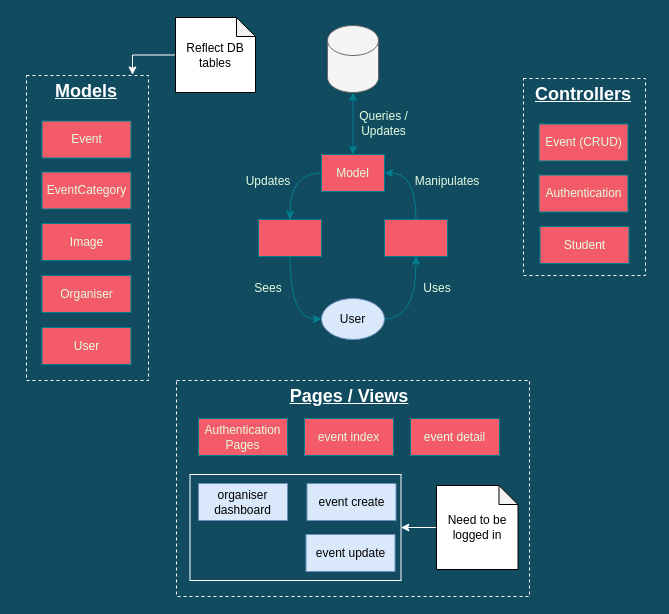
Some shapes in this 669 by 614 pixel diagram are drawn without their labels. The shapes that lost their labels are listed below. From the top down, each one's centre as x and y in pixels, then its label:
At pixel 352 58: "DB".
At pixel 290 237: "View".
At pixel 416 237: "Controller".
